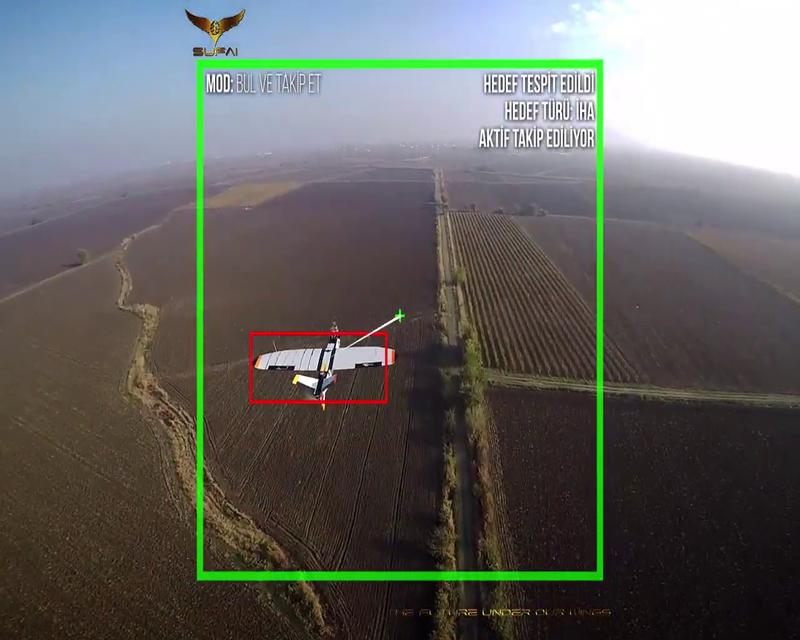UAV: (248, 333, 396, 410)
